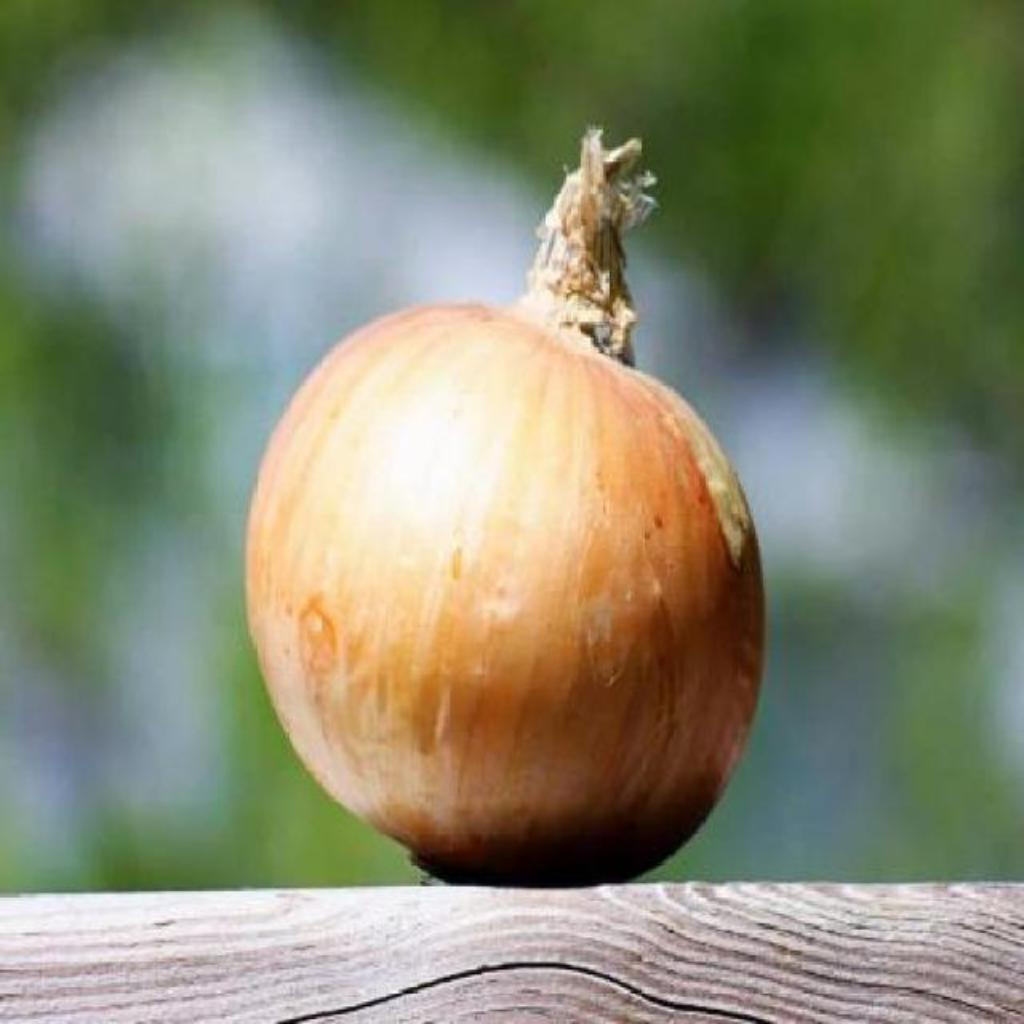Onion: (246, 128, 766, 886)
